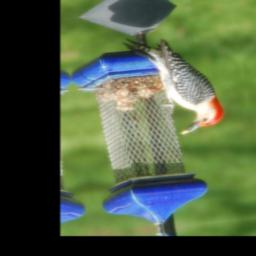Woodpecker: (115, 25, 227, 144)
